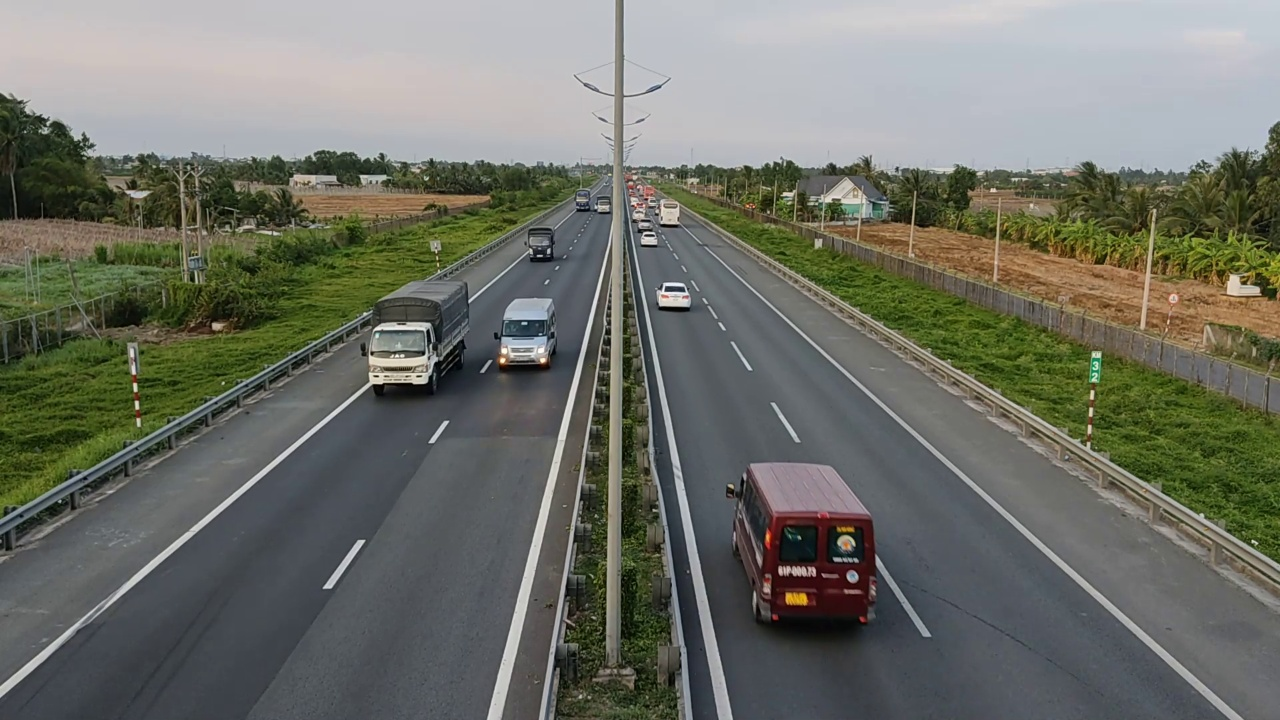car: (727, 459, 879, 625), (493, 296, 559, 369), (654, 281, 691, 311)
truck: (364, 277, 471, 397), (494, 297, 558, 369)
